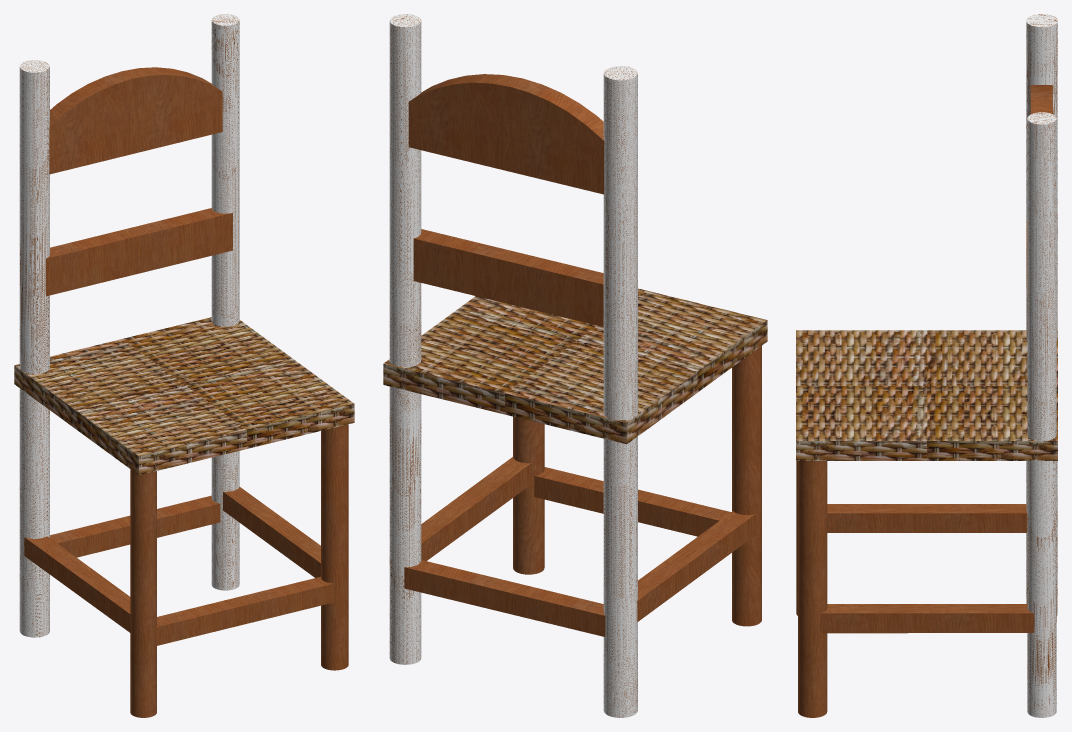
Rendered from doll_chair.dae.
3 views of the same model, side by side, from view 1: azimuth 30°, elevation 25°; view 2: azimuth 150°, elevation 25°; view 3: azimuth 270°, elevation 25° (orthographic). The views are drawn at different scales.
Parts seen in each view (by area): view 1: SketchUp (×8); view 2: SketchUp (×8); view 3: SketchUp (×5).
Boxes of the visible parts, left/top/right/bottom form: SketchUp (×8): left=14, top=14, right=354, bottom=717; SketchUp (×8): left=383, top=14, right=767, bottom=717; SketchUp (×5): left=796, top=14, right=1057, bottom=717.
Bounding box in the file's own units: 4.72 × 4.72 × 11.81.
Materials: 3 (2 with a texture image).
